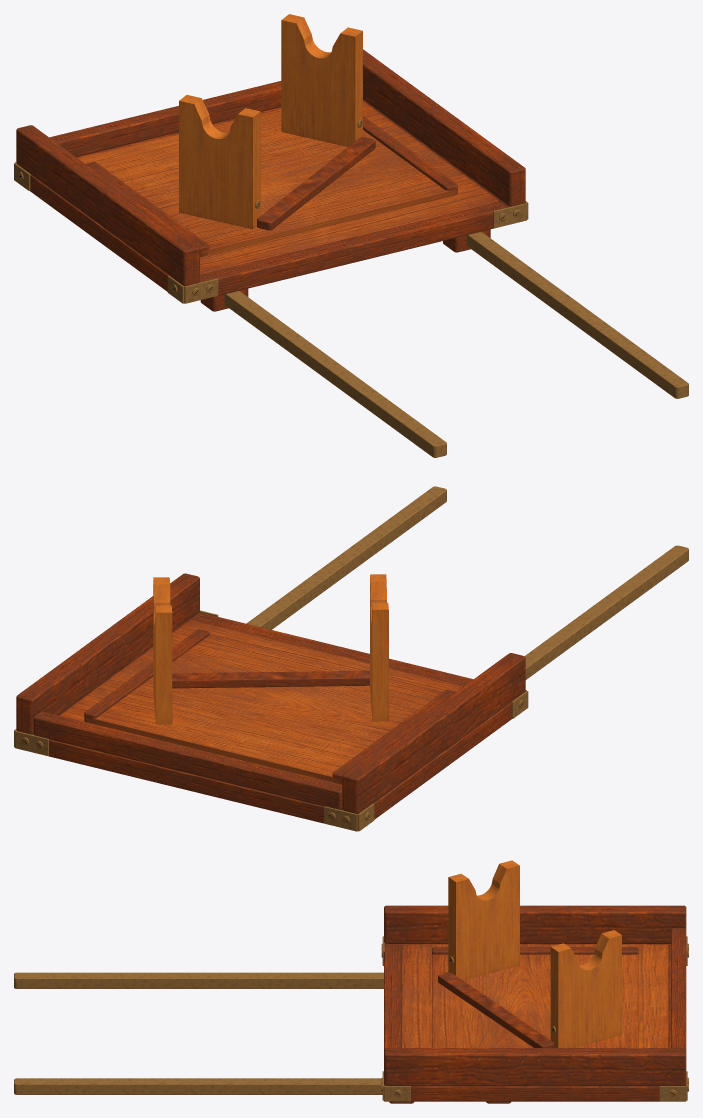
File: chapter3_rotor_base_pbr.glb
3 views of the same model, one above another, from view 1: azimuth 30°, elevation 25°; view 2: azimuth 150°, elevation 25°; view 3: azimuth 270°, elevation 25° (orthographic). The views are drawn at different scales.
Visible parts, largest first — view 1: FixedShelf_frame, MovingTray_panel, MovingTray_top, GuideRails_copper, FixedShelf_top, MovingTray_frame, FixedShelf_copper, GuideRails_frame; view 2: FixedShelf_frame, MovingTray_top, GuideRails_copper, MovingTray_frame, MovingTray_panel, FixedShelf_top, FixedShelf_copper; view 3: FixedShelf_frame, MovingTray_panel, GuideRails_copper, MovingTray_top, FixedShelf_top, MovingTray_frame, FixedShelf_copper.
Boxes of the visible parts, x1,y1,x2,y2 form: FixedShelf_frame: (16,49,525,303); MovingTray_panel: (179,14,362,229); MovingTray_top: (99,119,456,257); GuideRails_copper: (224,231,688,457); FixedShelf_top: (78,101,498,274); MovingTray_frame: (86,115,457,256); FixedShelf_copper: (14,162,528,303); GuideRails_frame: (200,229,490,311); FixedShelf_frame: (16,573,525,831); MovingTray_top: (86,634,443,784); GuideRails_copper: (246,486,688,679); MovingTray_frame: (84,629,456,784); MovingTray_panel: (153,574,388,724); FixedShelf_top: (60,620,463,721); FixedShelf_copper: (14,610,528,831); FixedShelf_frame: (384,905,686,1101); MovingTray_panel: (448,860,621,1047); GuideRails_copper: (14,972,383,1094); MovingTray_top: (432,954,638,1047); FixedShelf_top: (401,944,668,1047); MovingTray_frame: (432,947,638,1047); FixedShelf_copper: (381,936,688,1101).
Size of the model in its own units: 0.3448 by 0.145 by 0.6473.
Materials: 5 (5 with a texture image).
